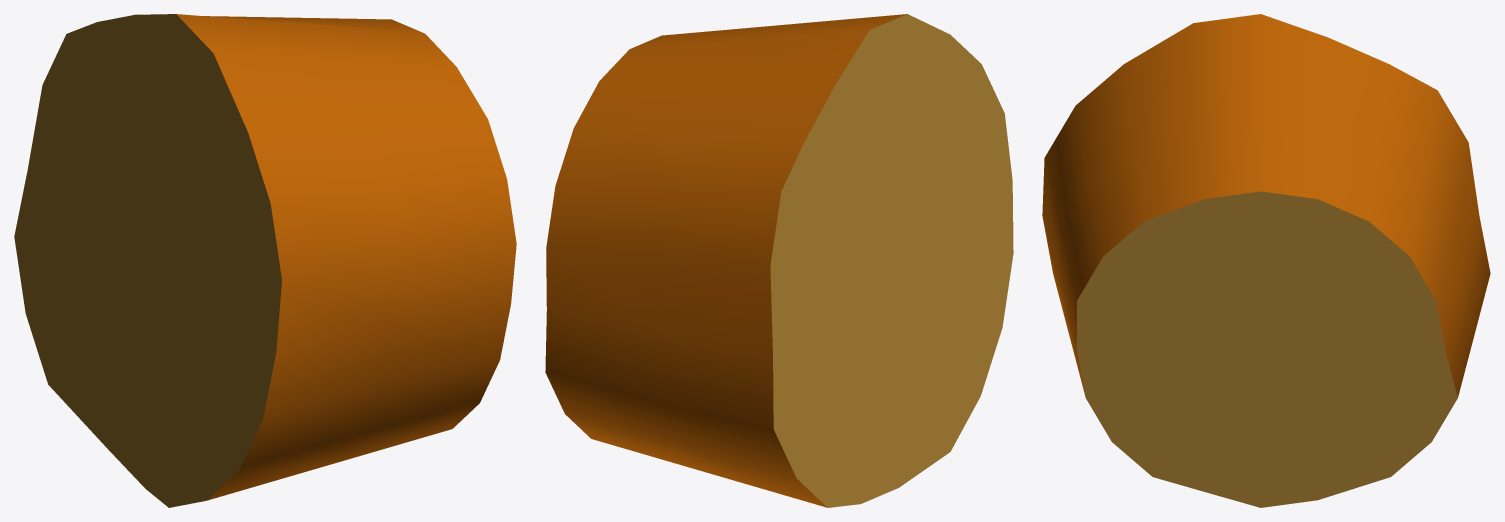
Rendered from mesh_CarrotSlice_Stage07.fbx.
3 views of the same model, side by side, from view 1: azimuth 30°, elevation 25°; view 2: azimuth 150°, elevation 25°; view 3: azimuth 270°, elevation 25° (orthographic). The views are drawn at different scales.
Visible parts, largest first — view 1: mesh_CarrotSlice_Stage07; view 2: mesh_CarrotSlice_Stage07; view 3: mesh_CarrotSlice_Stage07.
Part boxes in pixels (<box>): mesh_CarrotSlice_Stage07: <box>14,14,516,507</box>; mesh_CarrotSlice_Stage07: <box>545,14,1013,507</box>; mesh_CarrotSlice_Stage07: <box>1042,14,1490,507</box>.
Bounding box in the file's own units: 0.0224 × 0.034 × 0.0336.
